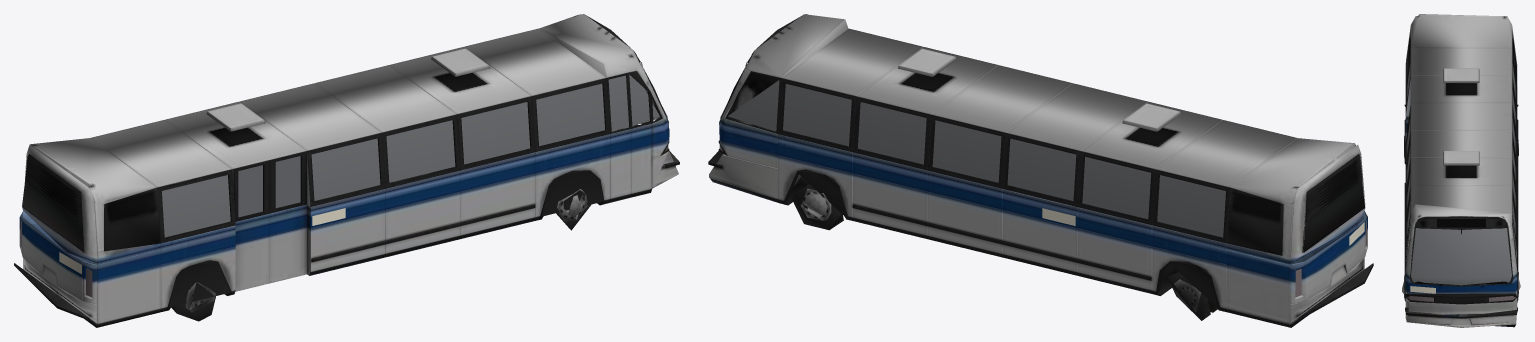
File: civ-citybus.lod1.glb
The picture shows the model from 3 angles, left to right: view 1: azimuth 30°, elevation 25°; view 2: azimuth 150°, elevation 25°; view 3: azimuth 270°, elevation 25°; orthographic projection. The views are drawn at different scales.
Parts seen in each view (by area): view 1: citybus_citybus_0, citybus_citybus_glass_0; view 2: citybus_citybus_0, citybus_citybus_glass_0; view 3: citybus_citybus_0, citybus_citybus_glass_0.
Boxes of the visible parts, x1=… form: citybus_citybus_0: x1=14, y1=14, x2=679, y2=327; citybus_citybus_glass_0: x1=20, y1=75, x2=669, y2=297; citybus_citybus_0: x1=708, y1=14, x2=1373, y2=327; citybus_citybus_glass_0: x1=719, y1=80, x2=1366, y2=297; citybus_citybus_0: x1=1402, y1=14, x2=1520, y2=327; citybus_citybus_glass_0: x1=1406, y1=64, x2=1516, y2=301.
Bounding box in the file's own units: 9.94 × 2.49 × 2.22.
Materials: 2 (1 with a texture image).
